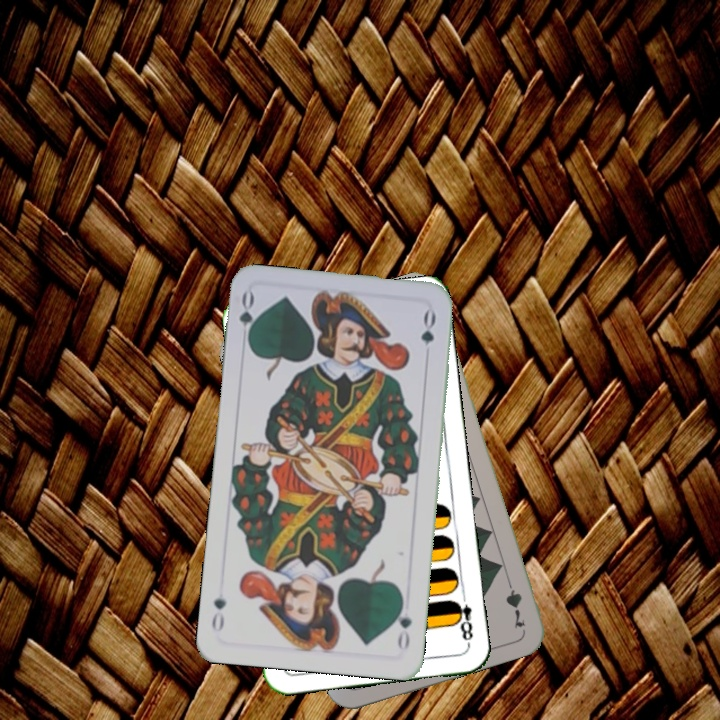E8: (448, 589, 476, 648)
G7: (501, 572, 528, 632)
GO: (235, 288, 261, 348), (391, 594, 415, 653)
